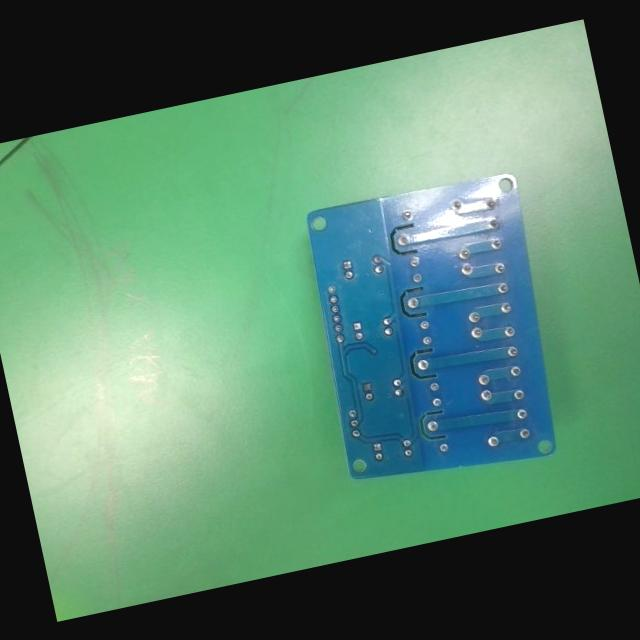relay_module: (292, 167, 574, 498)
